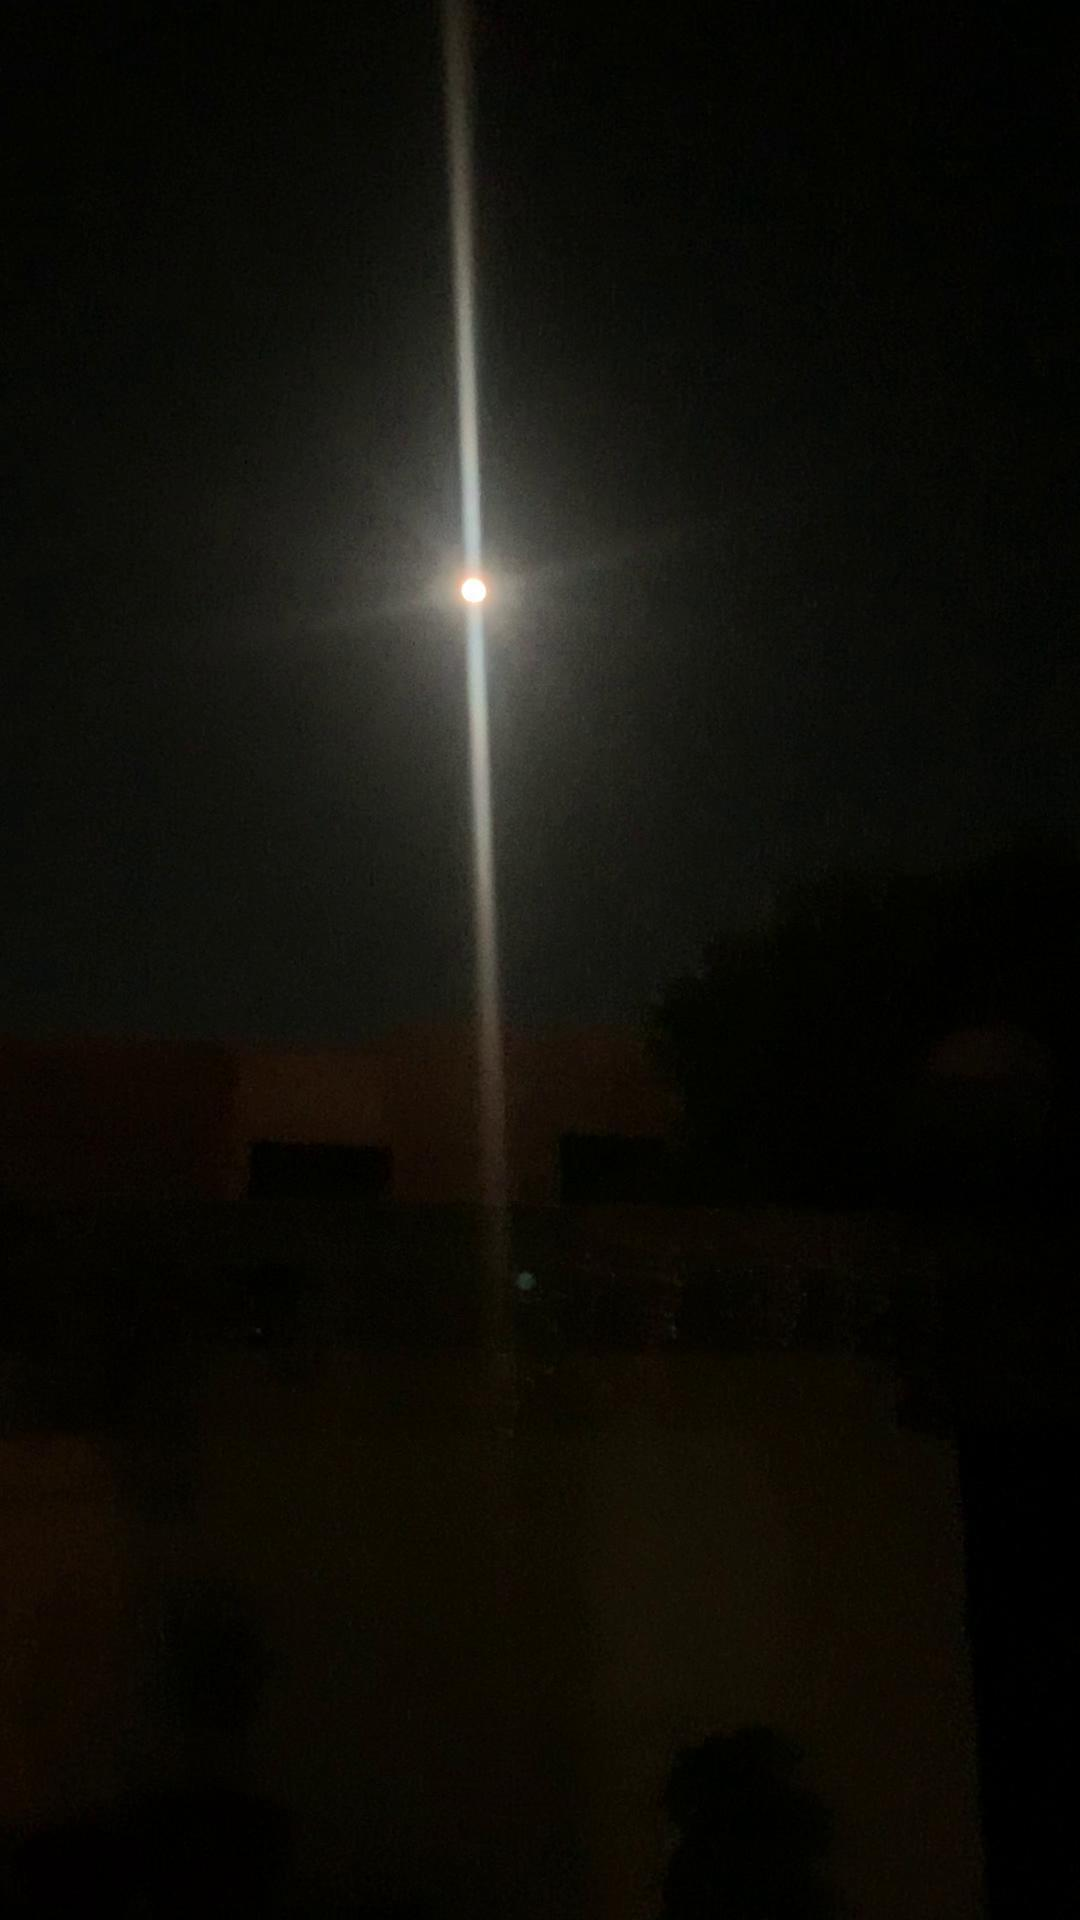moon: (448, 562, 524, 640)
